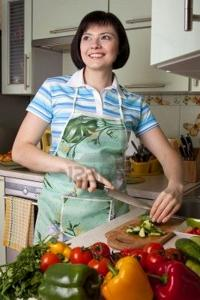person: (10, 10, 186, 253)
